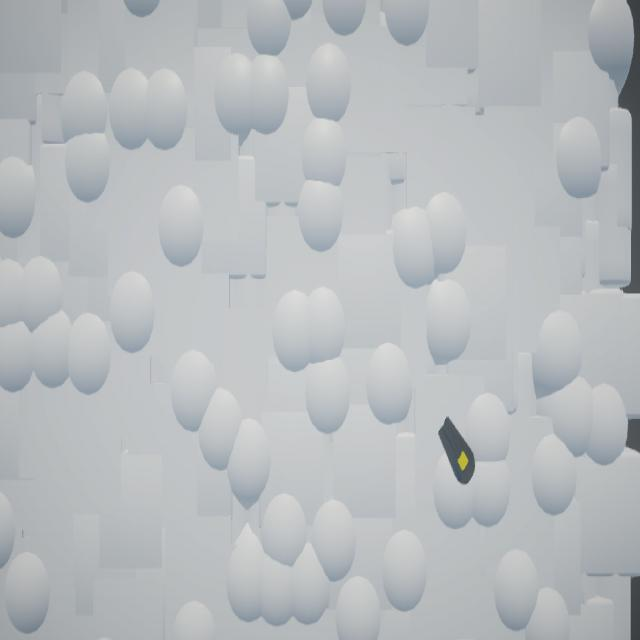handle_folk: (439, 417, 477, 487)
